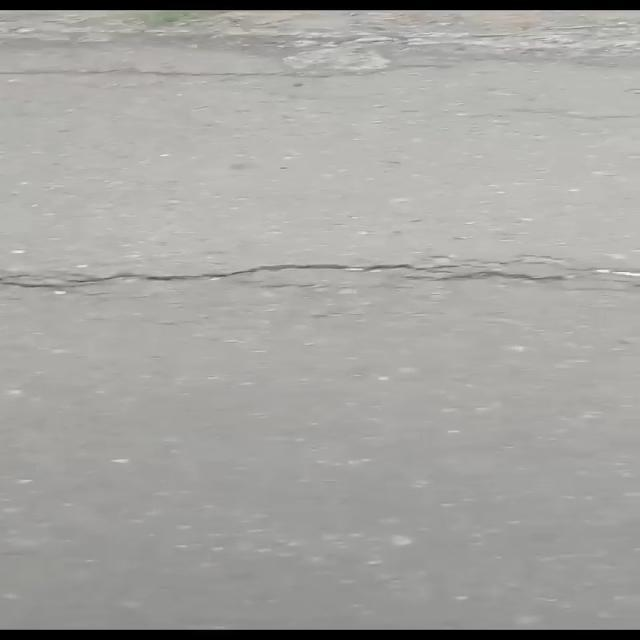Melintang: (0, 244, 640, 305)
